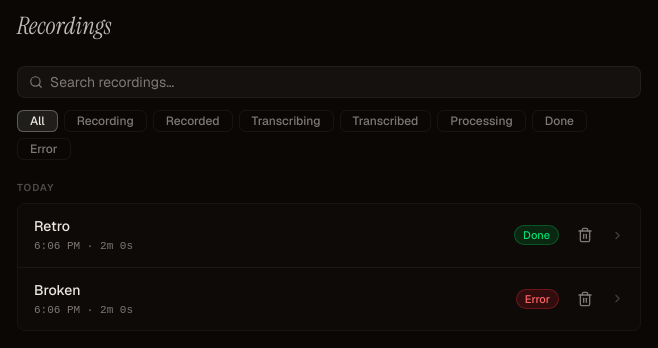
Recordings — load and list › filters the list when a status chip is pressed
Expected: the text "Retro" is shown, [34,217,70,235]
Click the button "Error": click(44, 149) [17,138,70,160]
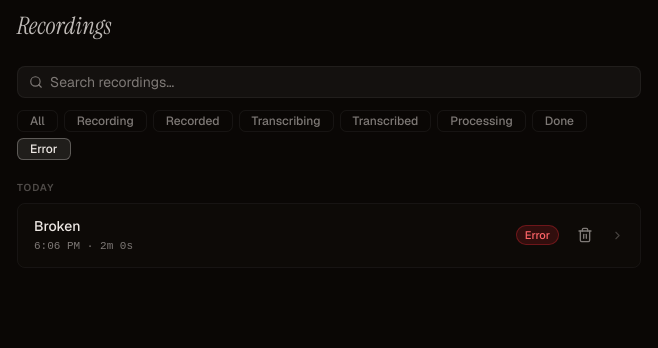
Expected: the text "Broken" is shown, [34,217,80,235]
Now the button "Retro" is gone
Click the button "All": click(37, 121) [17,110,58,132]
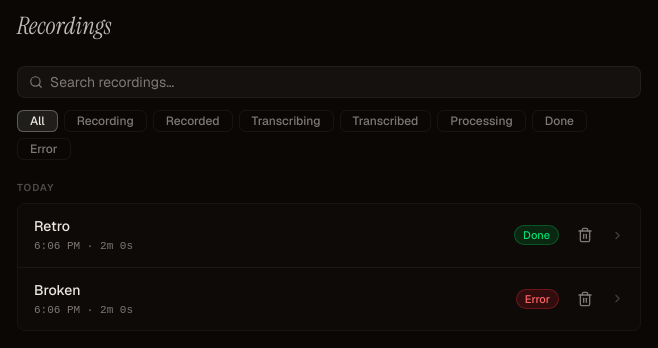
Expected: the text "Broken" is shown, [34,280,80,298]
Now the text "Retro" is shown, box [34,217,70,235]
